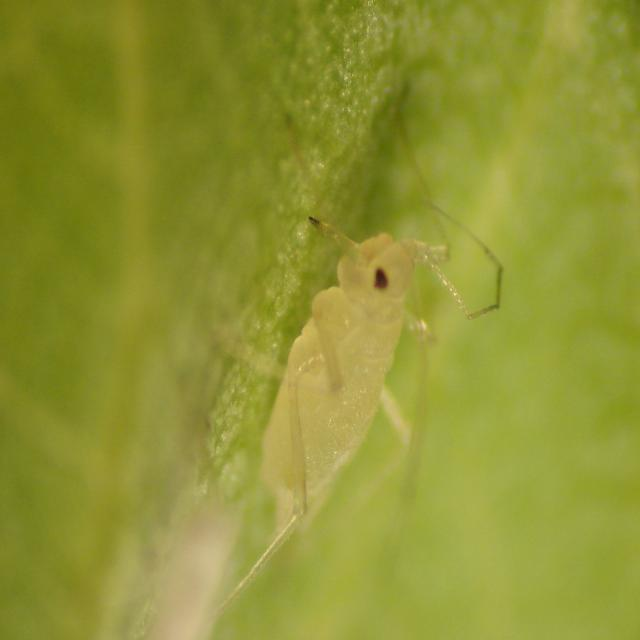aphid: (225, 149, 485, 566)
